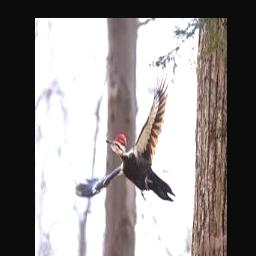Woodpecker: (75, 68, 175, 201)
